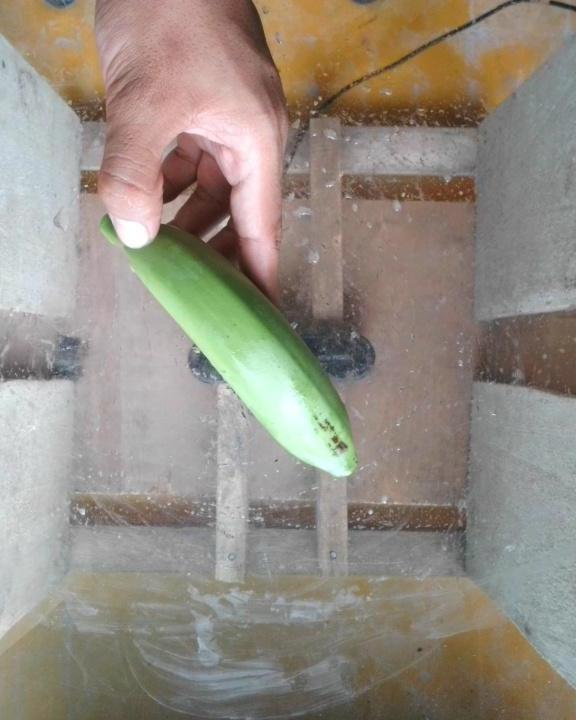CLASS B: (90, 192, 363, 489)
Class A: (309, 409, 350, 461)
